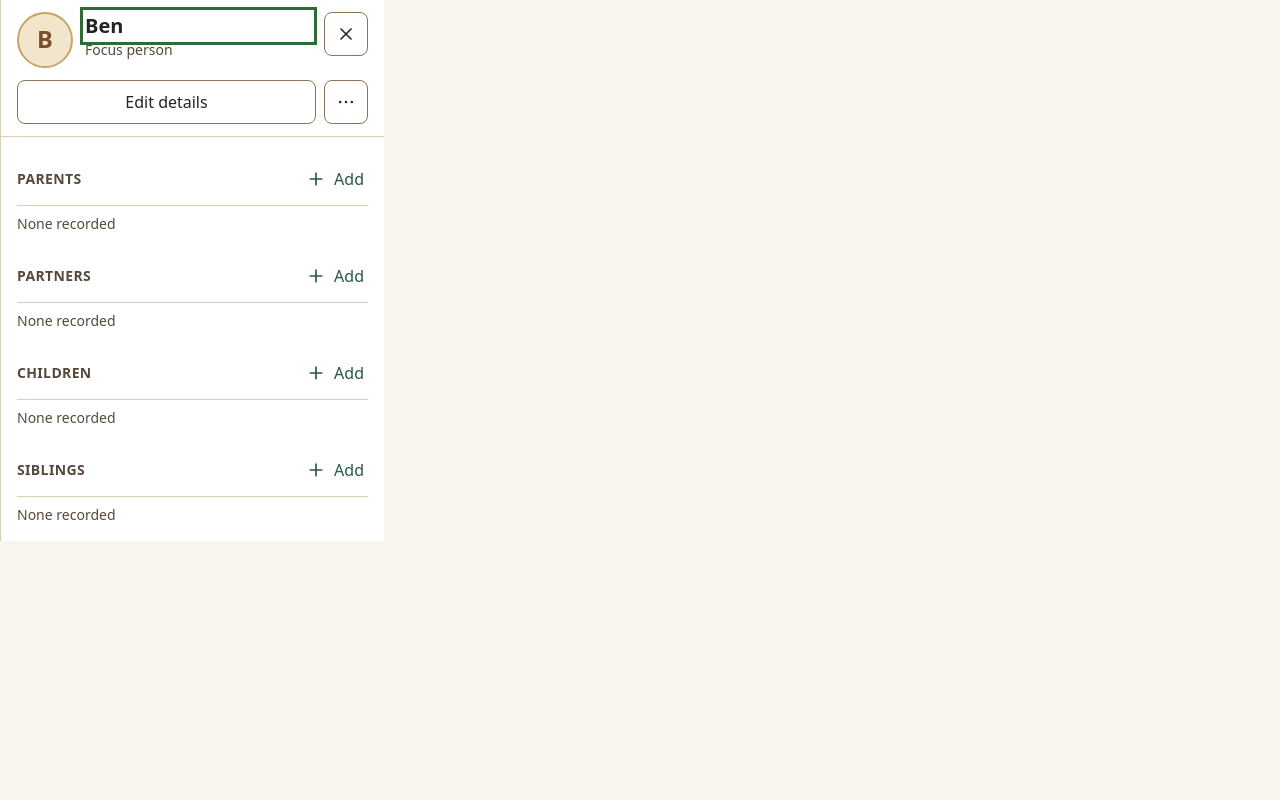
add relative: siblings › with no parents the preview names the unnamed parent
Click the button with aria-label "Add sibling". click: x=335, y=470
box: [294,448,376,492]
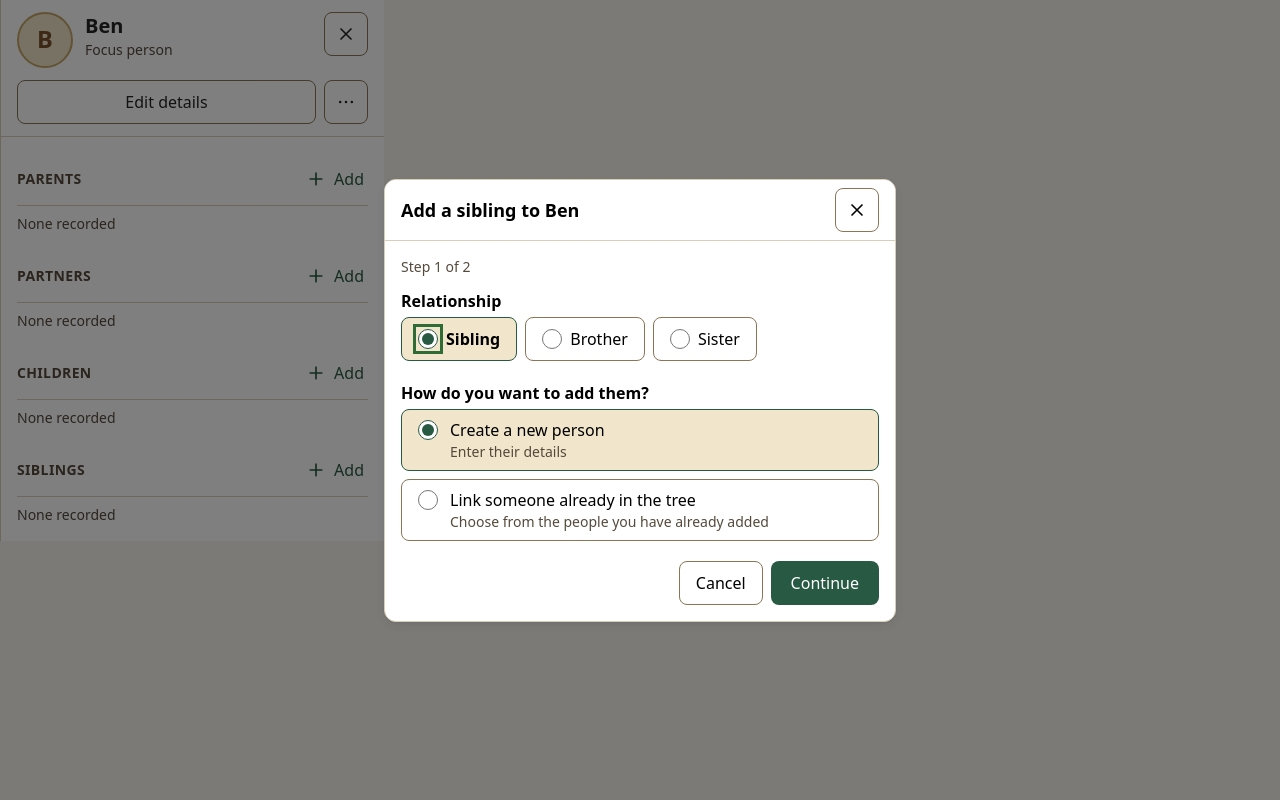
Click the radio button labelled "Sister". click: x=680, y=338
box: [670,328,690,348]
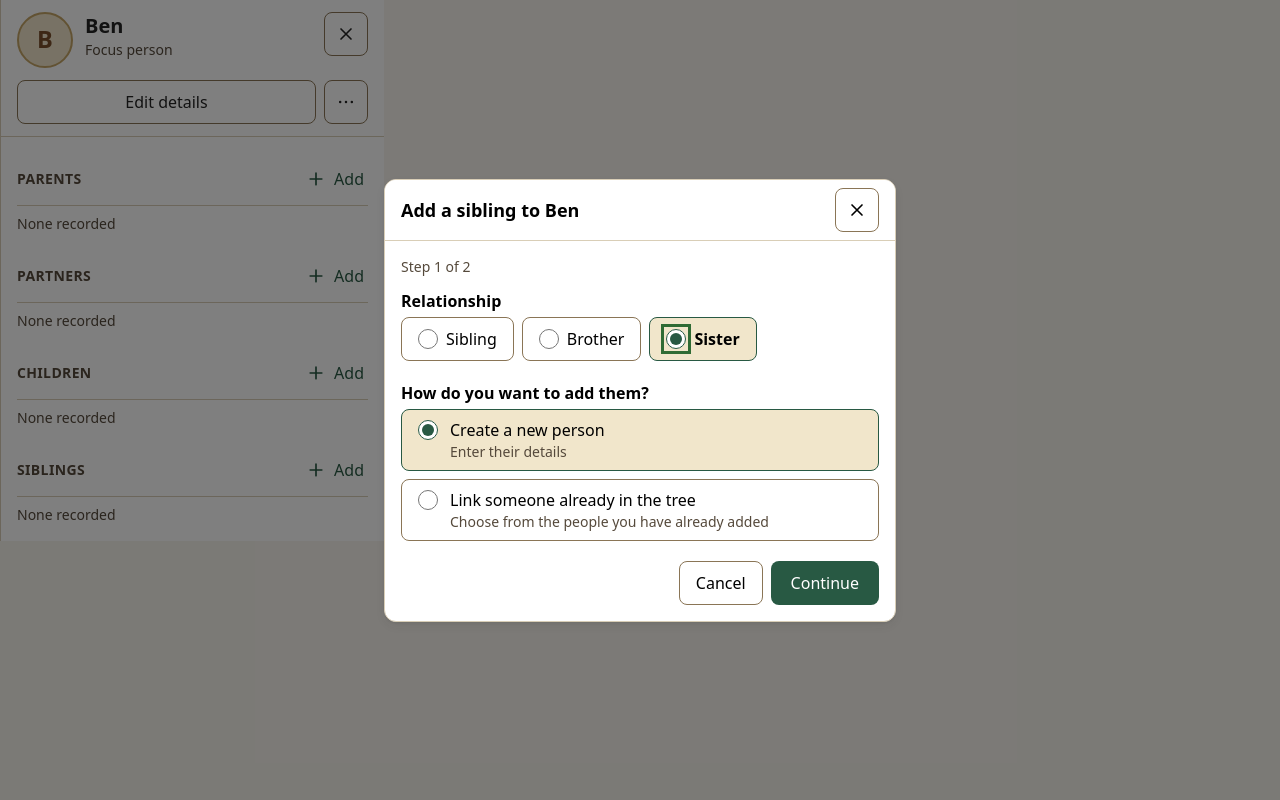
Click the button "Continue". click: x=825, y=582
box: [771,560,879,604]
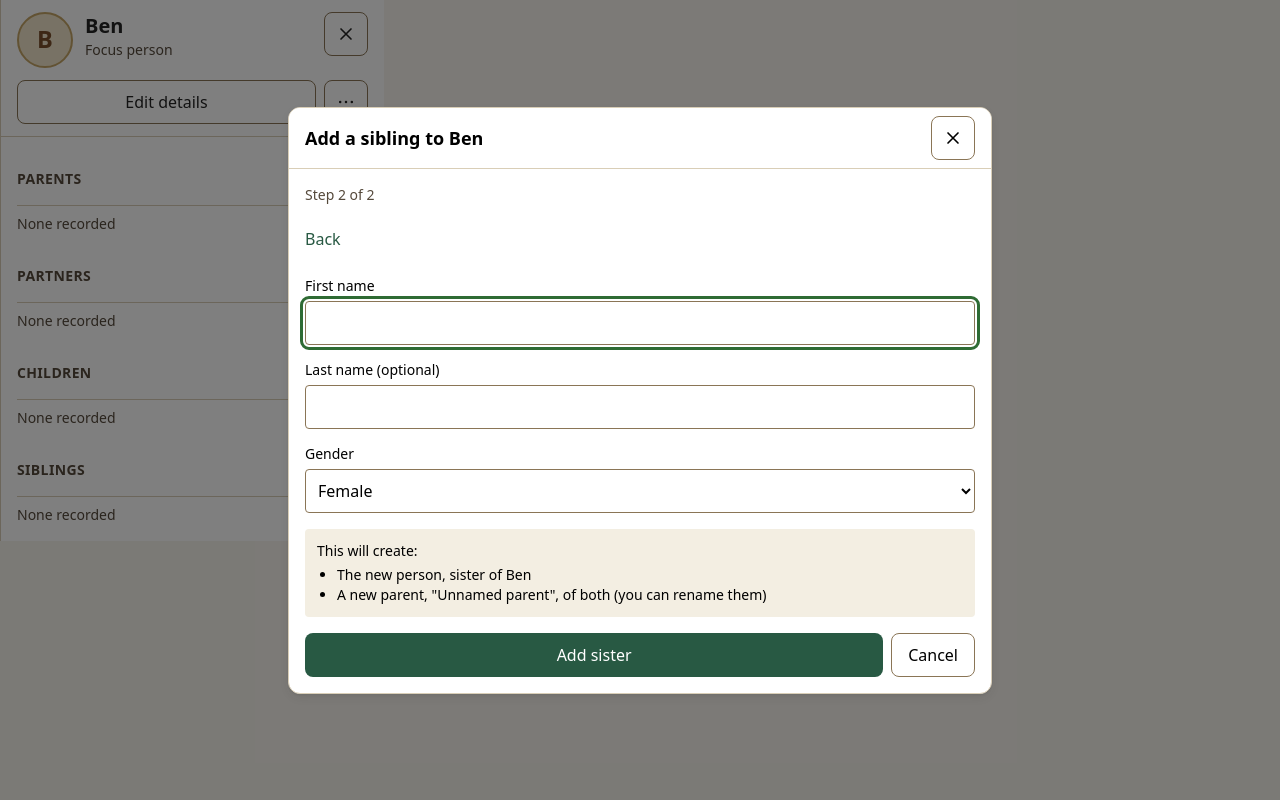
Now the list item "A new parent, \"Unnamed parent\", of both" is shown, box [337,584,766,604]
